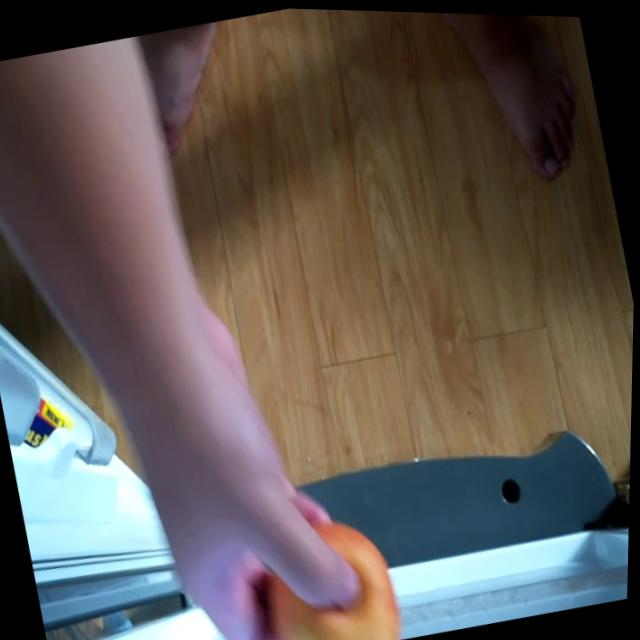apple: (262, 508, 406, 640)
